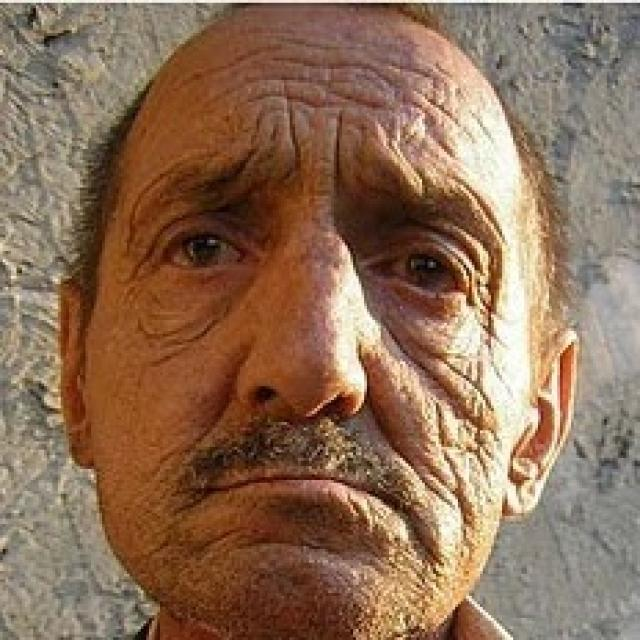Depress: (86, 11, 534, 637)
